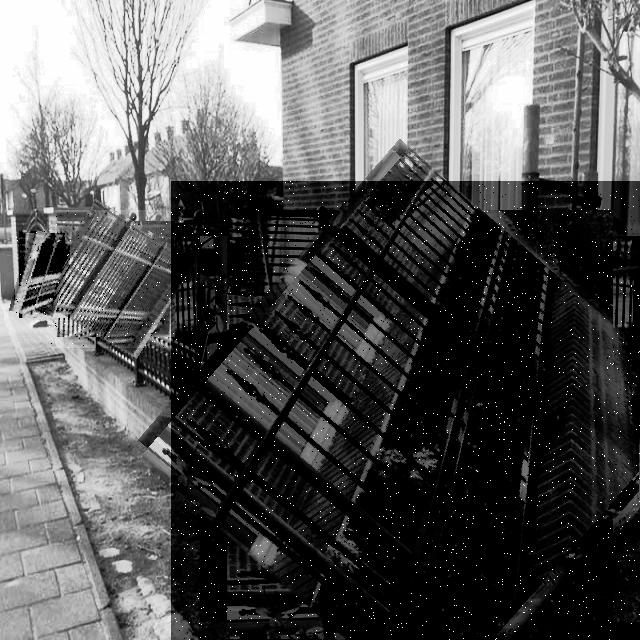fences: (171, 181, 640, 640), (47, 210, 185, 348), (14, 231, 70, 320)
